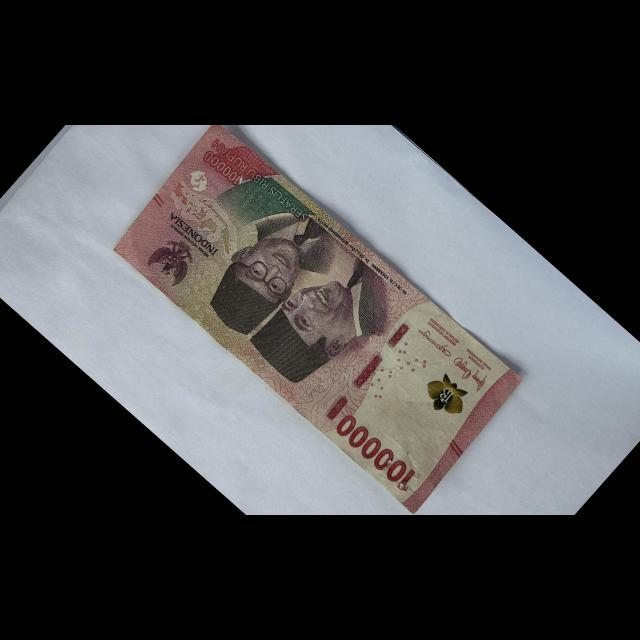Palsu-100k: (105, 119, 529, 515)
Tinta-Palsu-100k: (414, 368, 475, 427)
